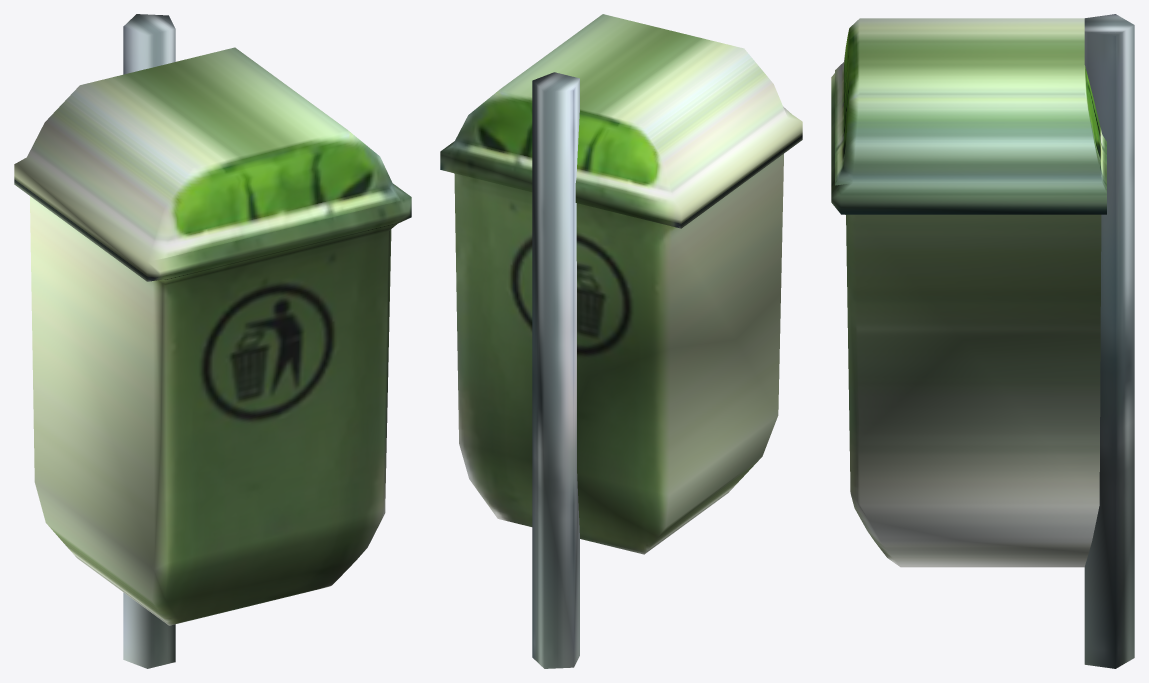
Rendered from kuka.fbx.
The picture shows the model from 3 angles, left to right: view 1: azimuth 30°, elevation 25°; view 2: azimuth 150°, elevation 25°; view 3: azimuth 270°, elevation 25°; orthographic projection. The views are drawn at different scales.
Parts seen in each view (by area): view 1: Cube; view 2: Cube; view 3: Cube.
Part boxes in pixels (box(x1,y1,x2,y2)): Cube: box(14, 14, 411, 668); Cube: box(440, 14, 802, 668); Cube: box(831, 14, 1134, 668).
Bounding box in the file's own units: 40.94 × 93.69 × 40.74.
